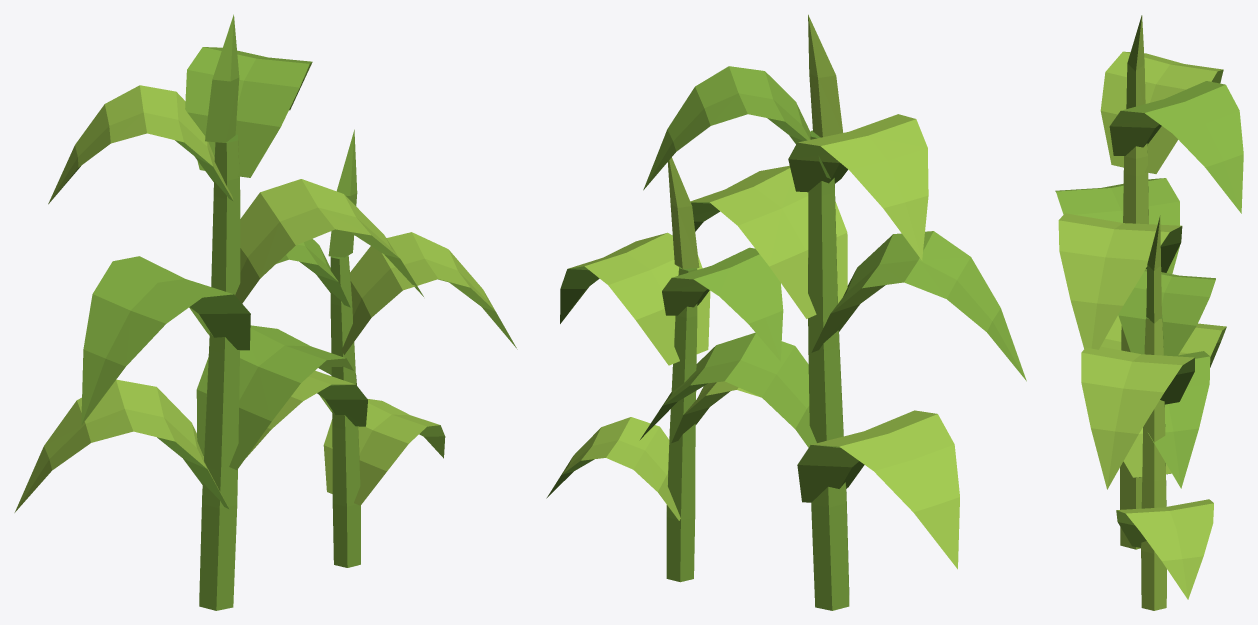
The model's file is FMS_Crop_Corn_S1.fbx.
The picture shows the model from 3 angles, left to right: view 1: azimuth 30°, elevation 25°; view 2: azimuth 150°, elevation 25°; view 3: azimuth 270°, elevation 25°; orthographic projection. The views are drawn at different scales.
Parts seen in each view (by area): view 1: FMS_Crop_Corn_S1; view 2: FMS_Crop_Corn_S1; view 3: FMS_Crop_Corn_S1.
Boxes of the visible parts, x1,y1,x2,y2 form: FMS_Crop_Corn_S1: (14,14,517,610); FMS_Crop_Corn_S1: (546,14,1026,610); FMS_Crop_Corn_S1: (1055,15,1243,610).
Size of the model in its own units: 0.7932 by 0.981 by 0.312.
